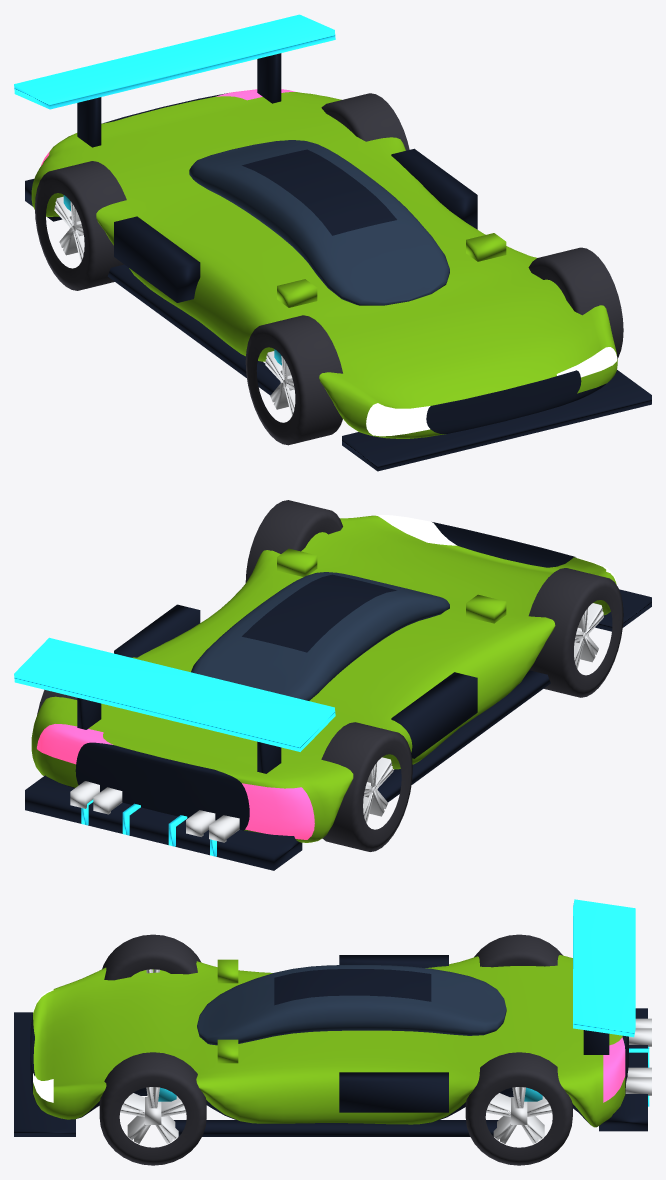
Rendered from azhdaha_sv.glb.
The picture shows the model from 3 angles, top to bottom: view 1: azimuth 30°, elevation 25°; view 2: azimuth 150°, elevation 25°; view 3: azimuth 270°, elevation 25°; orthographic projection. The views are drawn at different scales.
Parts seen in each view (by area): view 1: Chassis, Wheel_FR, Wheel_RR, Wheel_FL, Wheel_RL; view 2: Chassis, Wheel_FR, Wheel_RR, Wheel_FL; view 3: Chassis, Wheel_FL, Wheel_RL, Wheel_FR, Wheel_RR.
Boxes of the visible parts, bbox=[...] form: Chassis: bbox=[14, 14, 651, 471]; Wheel_FR: bbox=[245, 315, 342, 445]; Wheel_RR: bbox=[35, 161, 126, 290]; Wheel_FL: bbox=[528, 247, 623, 358]; Wheel_RL: bbox=[321, 93, 409, 150]; Chassis: bbox=[14, 515, 651, 870]; Wheel_FR: bbox=[528, 568, 623, 697]; Wheel_RR: bbox=[321, 722, 412, 851]; Wheel_FL: bbox=[245, 500, 342, 582]; Chassis: bbox=[14, 899, 651, 1136]; Wheel_FL: bbox=[99, 1052, 206, 1165]; Wheel_RL: bbox=[465, 1052, 572, 1165]; Wheel_FR: bbox=[102, 934, 201, 980]; Wheel_RR: bbox=[474, 934, 562, 967].
Size of the model in its own units: 2.5 by 1.19 by 4.95.
